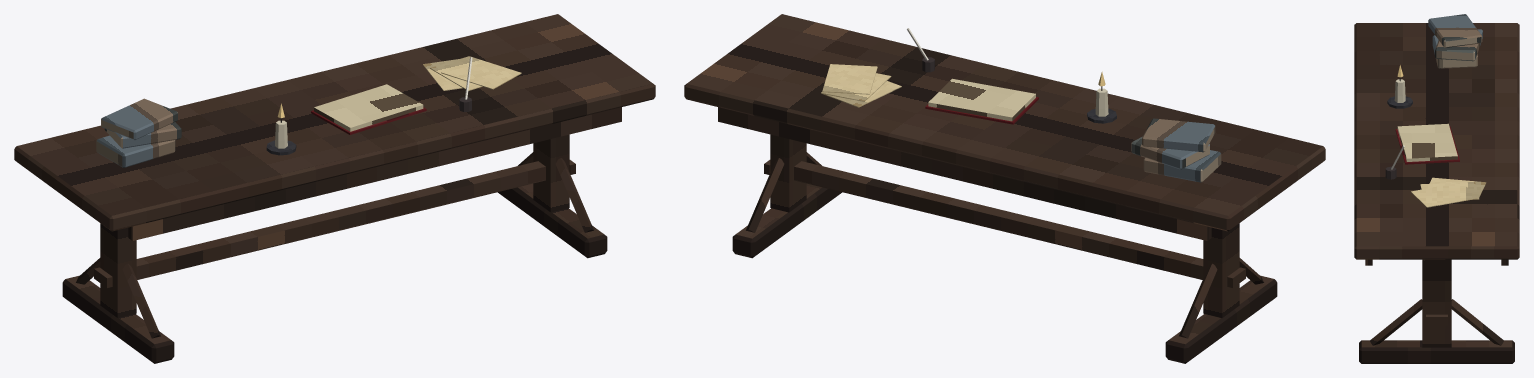
File: long_table.obj
3 views of the same model, side by side, from view 1: azimuth 30°, elevation 25°; view 2: azimuth 150°, elevation 25°; view 3: azimuth 270°, elevation 25° (orthographic). The views are drawn at different scales.
Parts seen in each view (by area): view 1: long_table; view 2: long_table; view 3: long_table.
Boxes of the visible parts, x1,y1,x2,y2 form: long_table: (14,14,655,363); long_table: (684,14,1325,363); long_table: (1354,14,1519,363).
Size of the model in its own units: 2.9 by 1.05 by 0.9.
